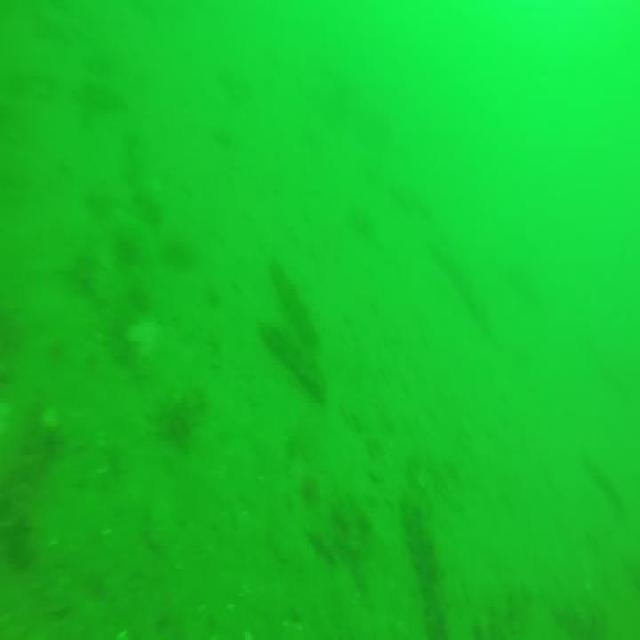holothurian: (406, 494, 452, 640), (256, 316, 317, 395), (265, 259, 319, 341)
